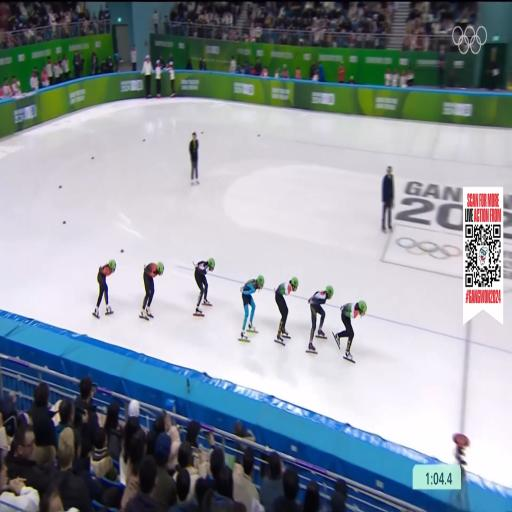Skater: (333, 301, 366, 362), (308, 286, 333, 352), (239, 275, 264, 341), (276, 277, 298, 344), (93, 260, 116, 318), (140, 263, 163, 319), (194, 258, 215, 315)
